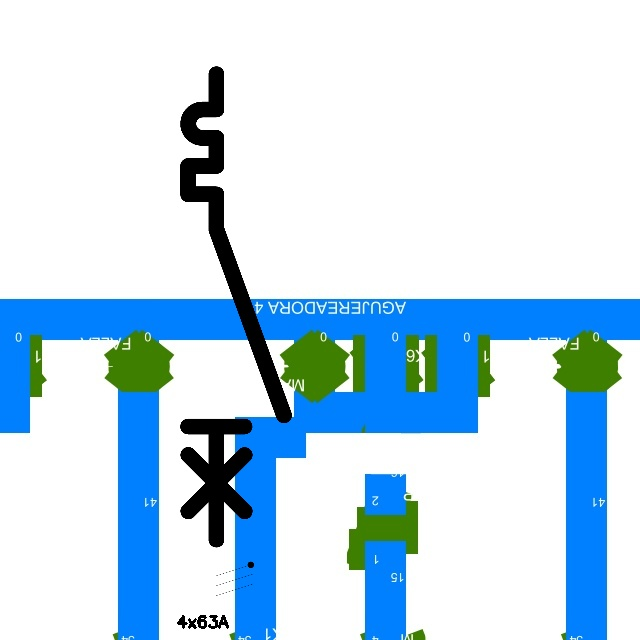interruptor_termomagnetico: (176, 62, 296, 552)
